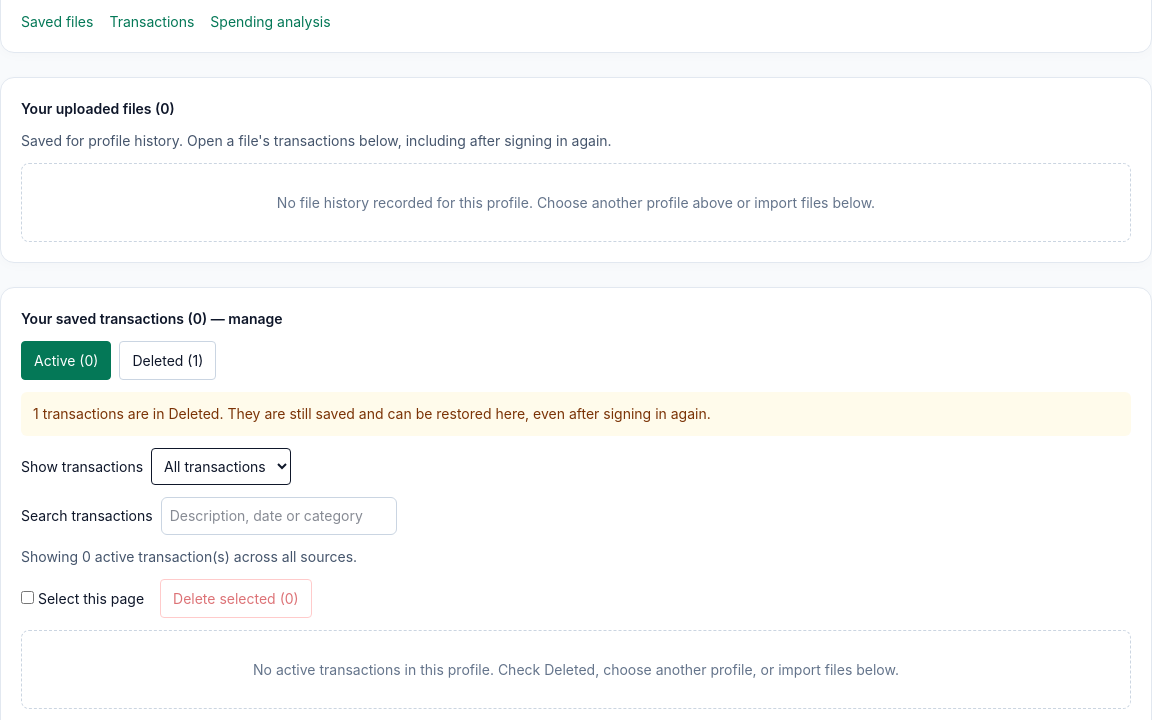
it: shows deleted expenses after loading and allows persistent restoration
This screenshot has width=1152, height=720.
(page scrolled)
Click the button "Deleted (1)". click: (168, 360)
box: [119,341,216,380]
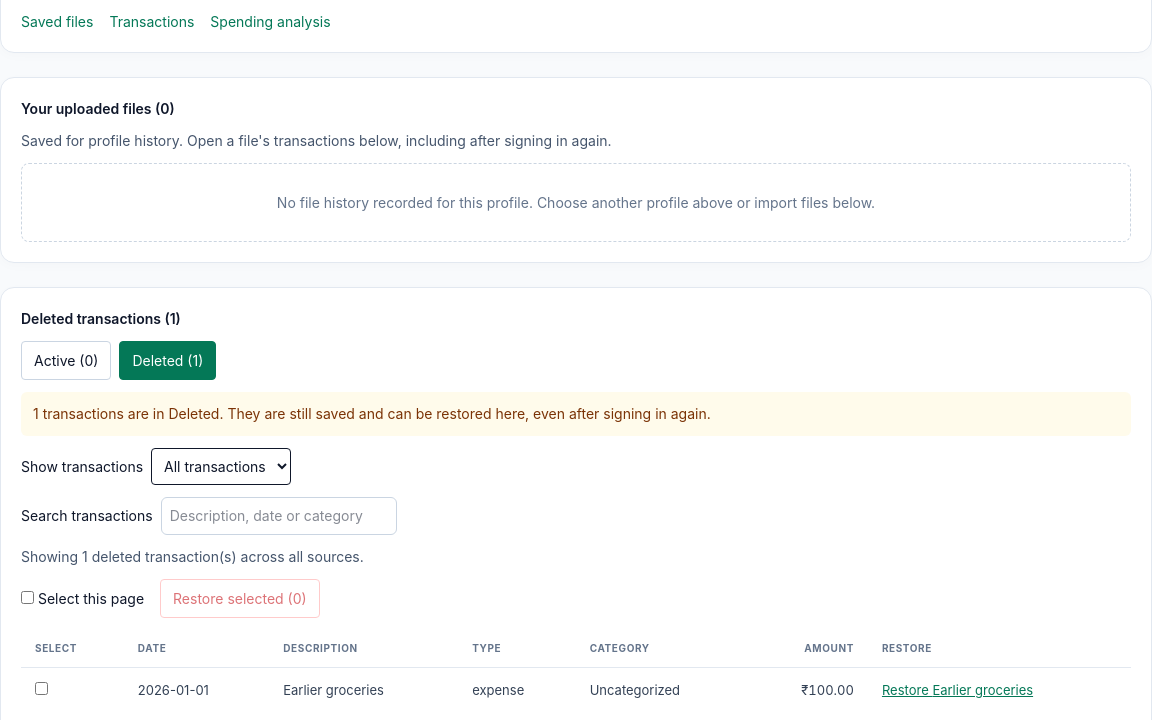
Click the button "Restore Earlier groceries". click: (958, 690)
box: [882,681,1033,700]
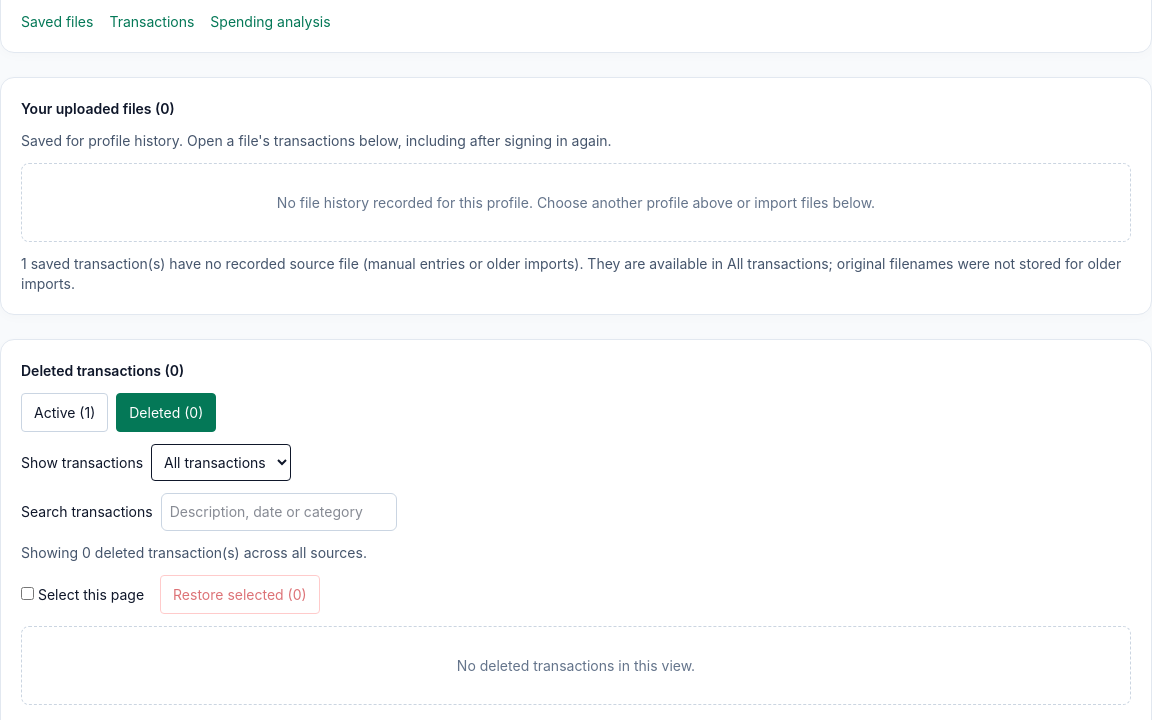
expect the button "Active (1)" is shown: met
Click the button "Active (1)". click: (65, 412)
box: [21,393,108,432]
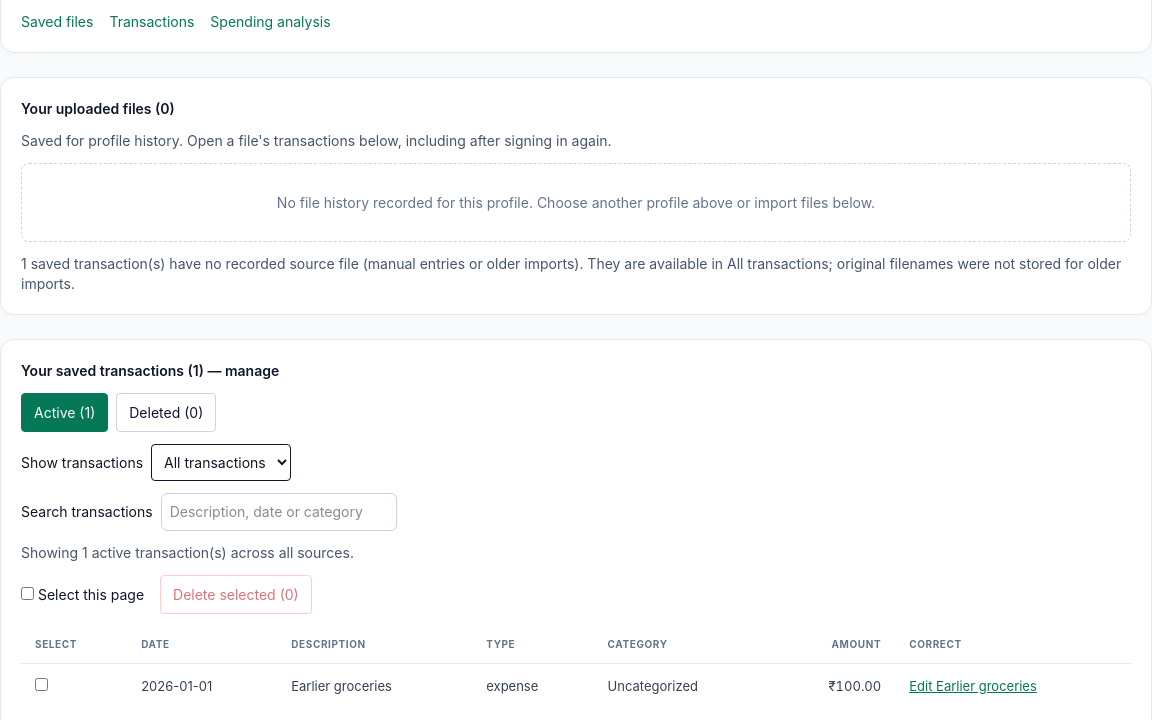
expect the button "Edit Earlier groceries" is shown: met, box [909,677,1037,696]
